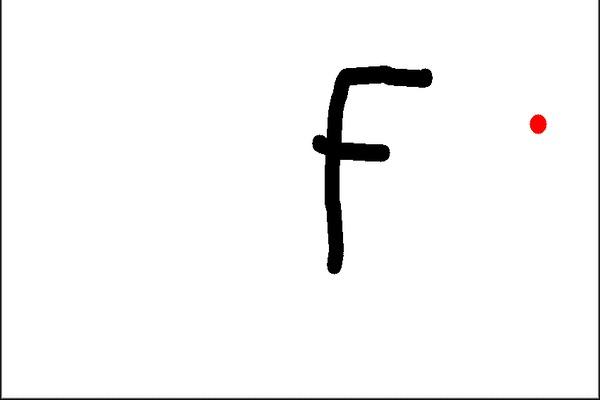F: (308, 59, 435, 278)
